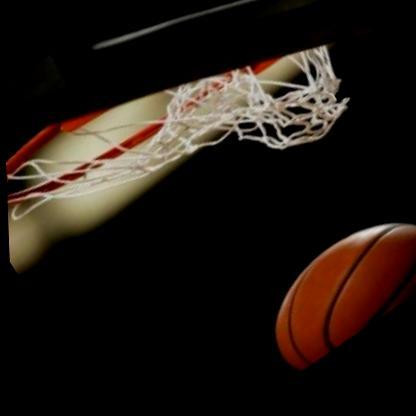basketball: (234, 192, 416, 389)
